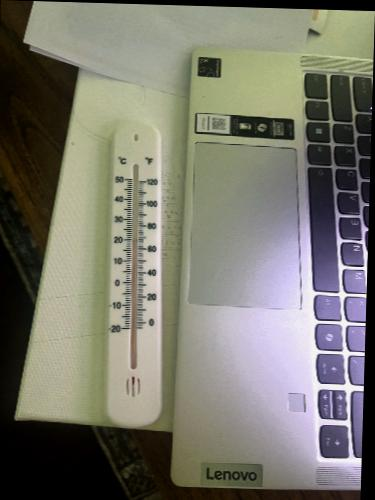thermo: (104, 124, 163, 426)
